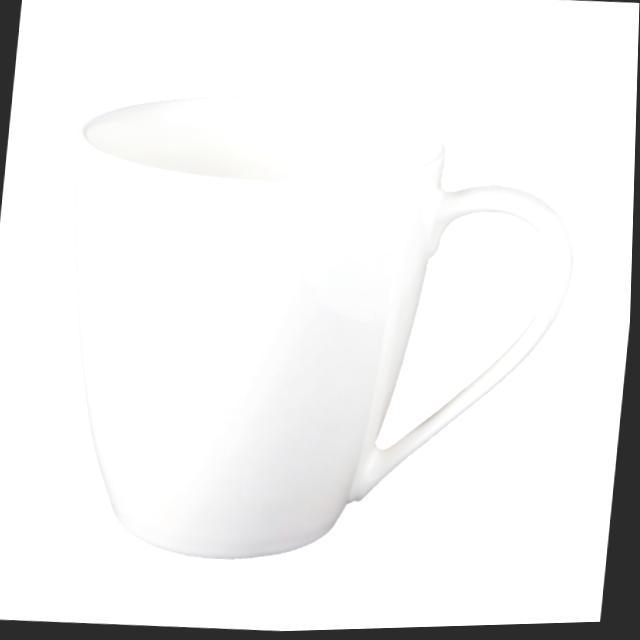cup: (26, 73, 596, 609)
